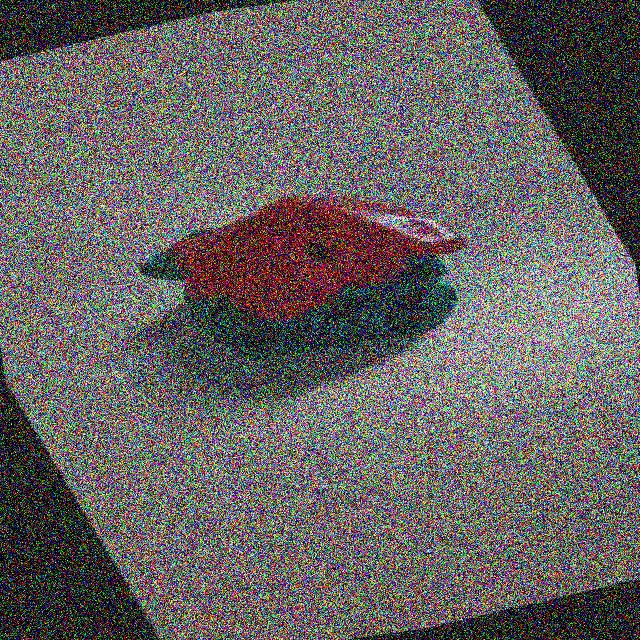House: (105, 151, 533, 411)
